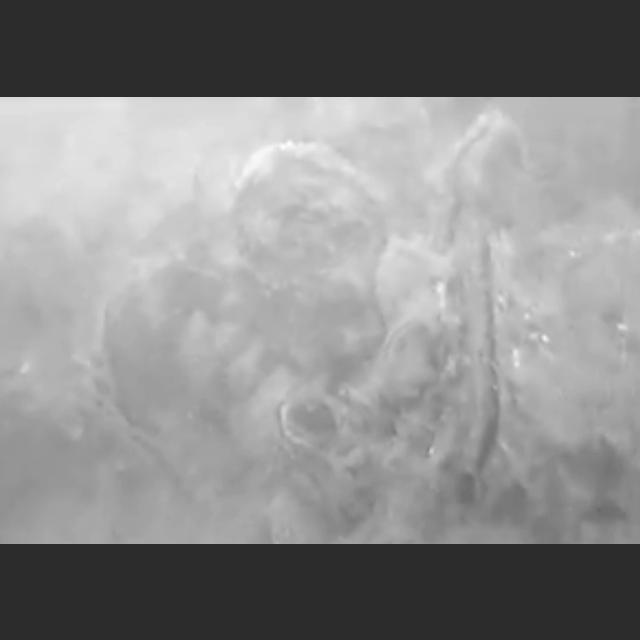Oyster-Closed: (223, 138, 387, 354)
Oyster-Open: (451, 228, 517, 484), (422, 109, 530, 257), (273, 383, 367, 469), (371, 314, 435, 402)
